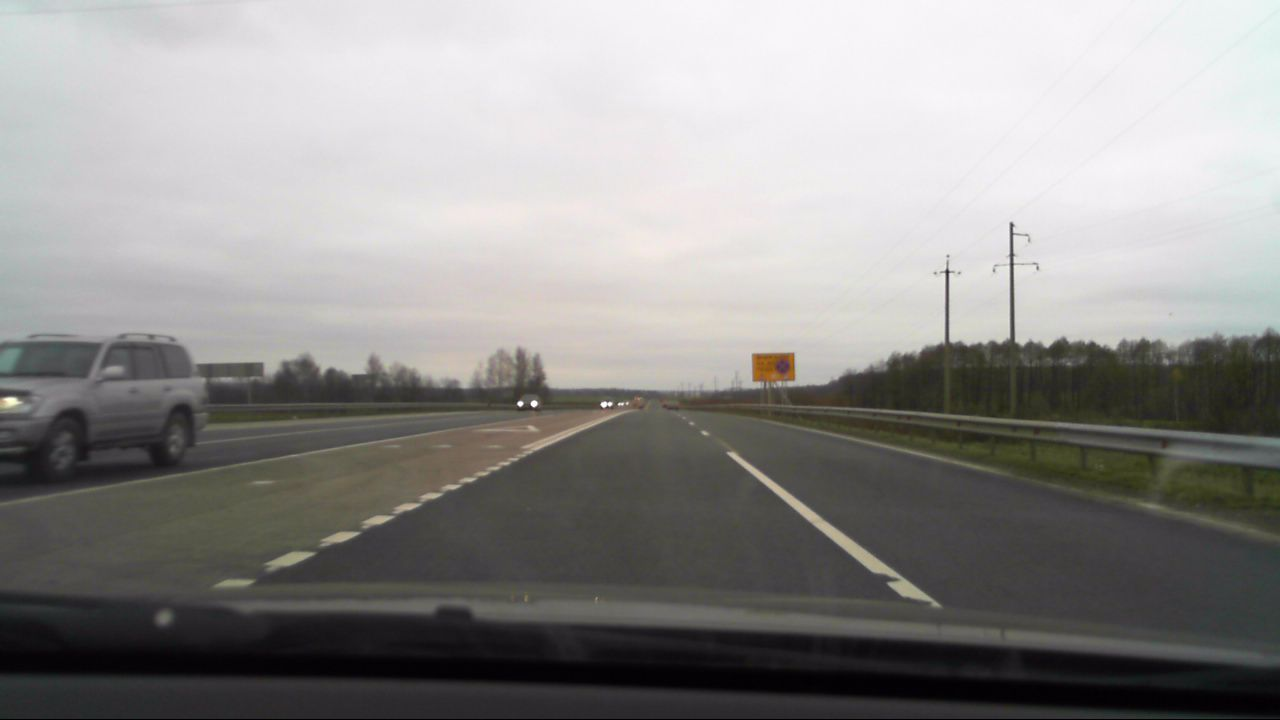No Parking: (770, 356, 794, 379)
